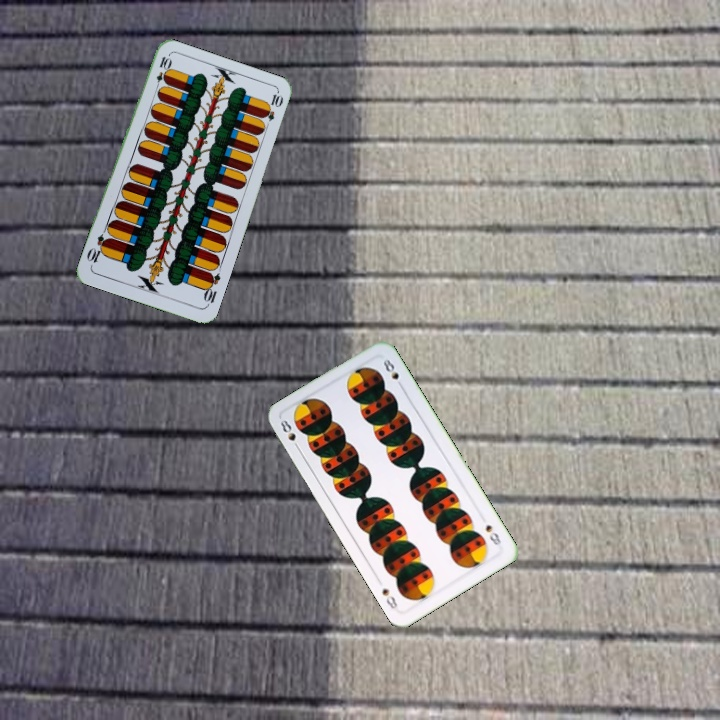E10: (199, 268, 223, 309), (152, 52, 172, 93)
S8: (276, 415, 303, 453), (481, 520, 505, 549)
